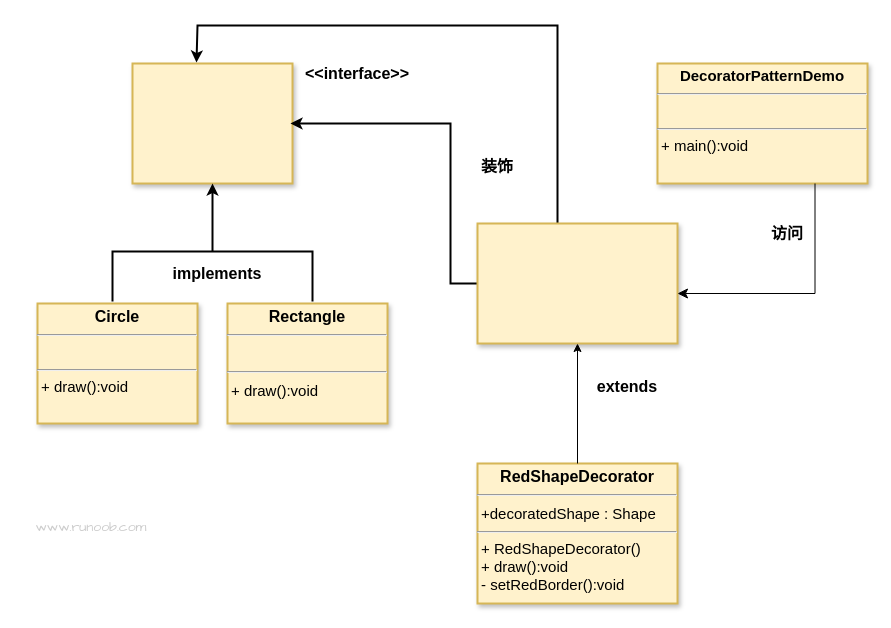
This 891x628 diagram has some shape labels left out. The centre of each missing label's shape, as x and y in pixels:
Shape + draw():void: the point at 213,124
ShapeDecorator + decoratedShape : Shape + ShapeDecorator() + draw():void: the point at 578,284
